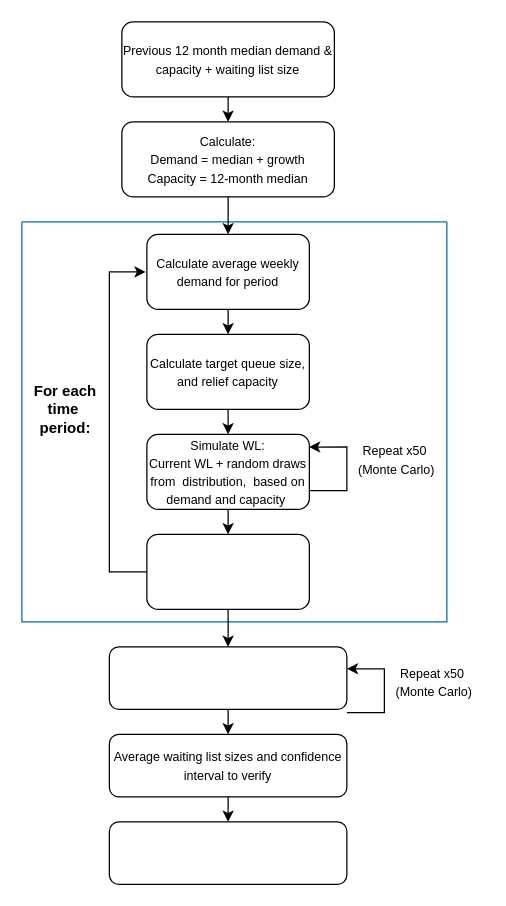
This 506x906 diagram has some shape labels left out. The shapes that lost their labels are listed below. From the top down, each one's box as (x1, y1, x2, y2) in pixels, then its label:
(146, 533, 309, 609): Average waiting list size and confidence interval
(108, 646, 347, 709): Simulate full waiting list, stepping through time periods
(108, 821, 347, 884): Plot each WL run + averages
